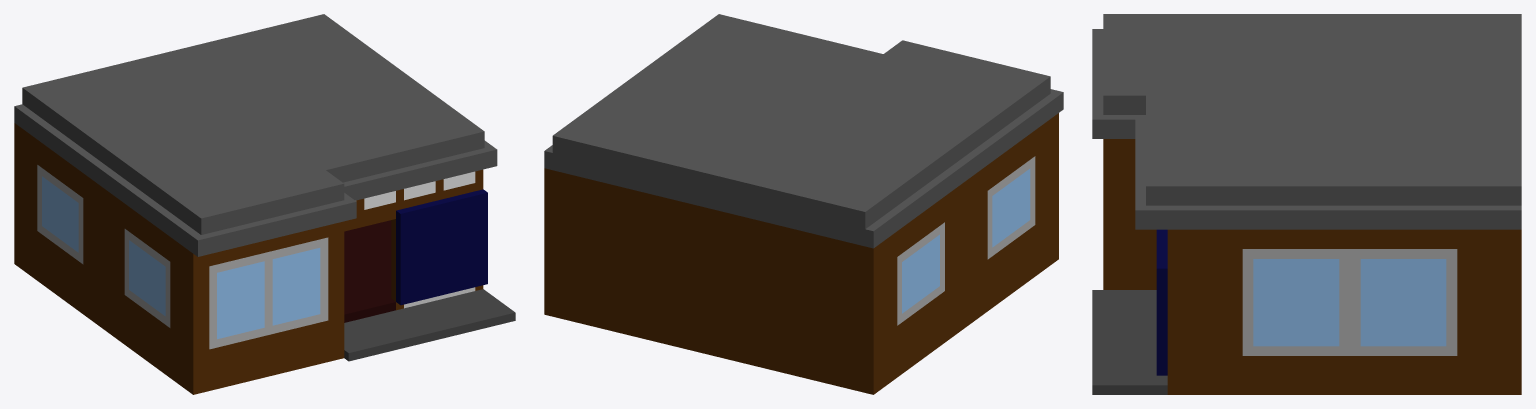
The model's file is fermentory.fbx.
3 renders of one model, left to right at view 1: azimuth 30°, elevation 25°; view 2: azimuth 150°, elevation 25°; view 3: azimuth 270°, elevation 25°, orthographic. The views are drawn at different scales.
Visible parts, largest first — view 1: Untitled; view 2: Untitled; view 3: Untitled.
Boxes of the visible parts, <box> form: Untitled: <box>14,14,515,394</box>; Untitled: <box>544,14,1063,394</box>; Untitled: <box>1092,14,1521,394</box>.
Bounding box in the file's own units: 200 × 105 × 200.
